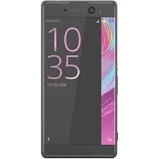sony: (40, 1, 118, 158)
